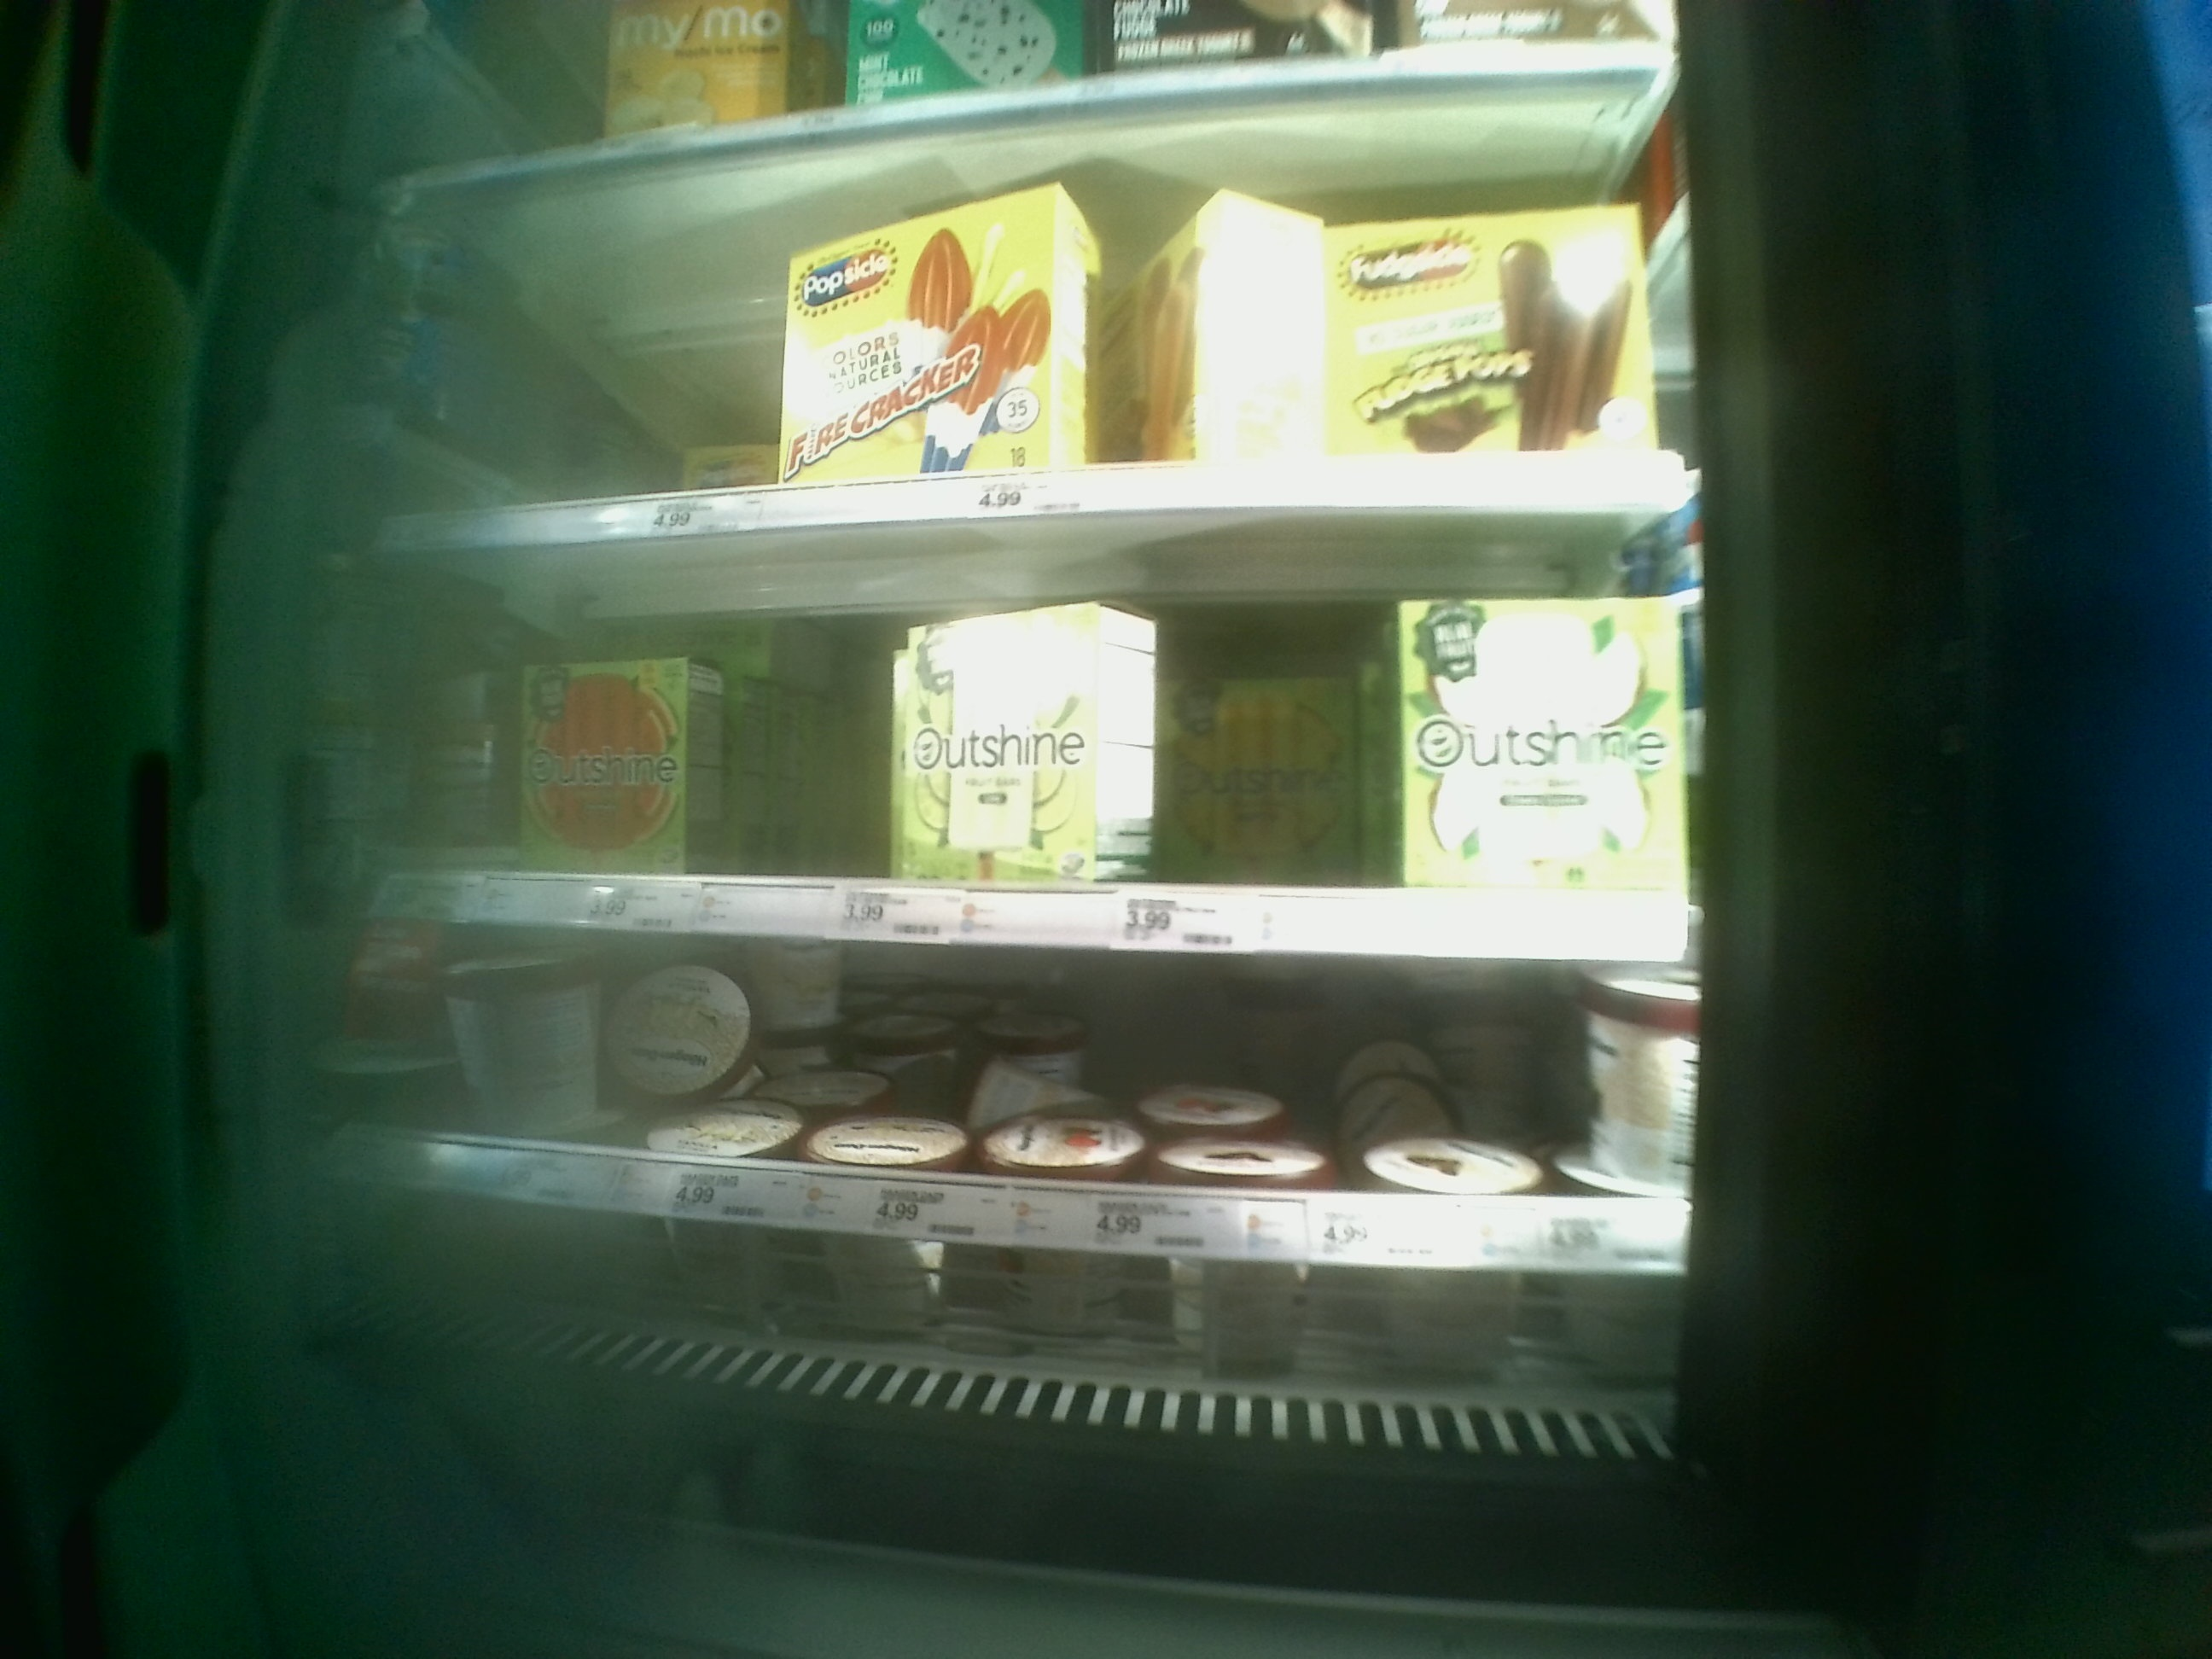shelf: (359, 54, 1714, 563), (334, 929, 1726, 1405), (347, 512, 1724, 962)
